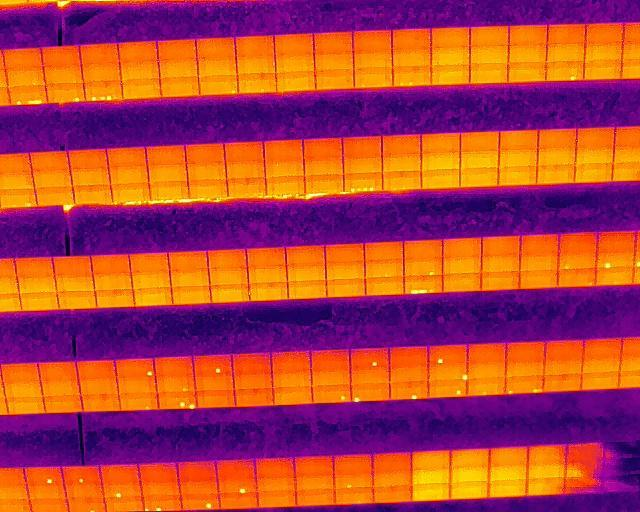Cell: (350, 349, 389, 369), (545, 61, 584, 81), (429, 345, 468, 364), (238, 74, 276, 93), (194, 354, 232, 373), (596, 251, 636, 269), (199, 76, 238, 94), (119, 392, 158, 410), (389, 381, 428, 399), (47, 83, 85, 101), (24, 467, 64, 484), (117, 358, 154, 376), (0, 189, 37, 207), (558, 252, 597, 269), (404, 259, 443, 276), (428, 380, 467, 397), (332, 472, 373, 488), (313, 385, 351, 402), (63, 466, 100, 483), (350, 385, 389, 401), (429, 364, 468, 380), (157, 375, 193, 392), (103, 482, 142, 497), (218, 479, 257, 494), (468, 379, 506, 394), (179, 495, 219, 509), (68, 499, 105, 512)
Cell-Multi: (393, 66, 431, 85), (343, 173, 383, 191), (505, 375, 544, 393), (84, 81, 122, 99), (158, 391, 196, 408), (143, 496, 181, 511)
No-Anomaly: (581, 338, 623, 360), (596, 230, 636, 251), (353, 31, 392, 52), (545, 341, 582, 363), (381, 135, 421, 155), (537, 128, 577, 148), (420, 134, 460, 154), (488, 446, 528, 466), (118, 42, 157, 62), (157, 41, 196, 61), (585, 24, 624, 44), (389, 347, 428, 367), (169, 252, 208, 272), (574, 162, 613, 182), (537, 164, 576, 184), (264, 140, 303, 160), (343, 137, 382, 157), (4, 48, 42, 68), (80, 44, 118, 64), (275, 73, 315, 92), (233, 353, 271, 373), (246, 248, 286, 267), (430, 65, 470, 84), (311, 350, 349, 370), (207, 250, 247, 269), (469, 344, 507, 364), (296, 456, 334, 476), (576, 127, 616, 146), (459, 132, 499, 151), (372, 451, 412, 470), (255, 459, 295, 478), (546, 42, 585, 61), (470, 26, 509, 45), (130, 253, 169, 272), (315, 70, 354, 89), (442, 256, 481, 275), (584, 60, 623, 79), (41, 46, 80, 65), (15, 257, 54, 276), (506, 343, 545, 362), (53, 257, 92, 276), (481, 272, 520, 291), (275, 53, 314, 72), (354, 68, 393, 87), (442, 238, 481, 257), (559, 232, 598, 251), (499, 131, 538, 150), (275, 35, 314, 54), (146, 146, 185, 165), (225, 142, 264, 161), (481, 236, 520, 255), (333, 453, 374, 471), (302, 139, 343, 157), (470, 63, 508, 82), (508, 62, 546, 81), (7, 67, 45, 86), (122, 79, 160, 98), (83, 63, 121, 82), (161, 77, 199, 96), (272, 352, 310, 371), (155, 356, 193, 375), (393, 30, 431, 49), (38, 361, 78, 379), (584, 42, 624, 60), (508, 25, 548, 43), (247, 266, 287, 284), (488, 463, 528, 481), (543, 374, 583, 392), (411, 450, 451, 468), (185, 144, 225, 162), (100, 464, 140, 482), (215, 460, 255, 478), (574, 146, 614, 164), (497, 167, 537, 185), (450, 449, 490, 467), (197, 58, 236, 76), (314, 52, 353, 70), (236, 55, 275, 73), (480, 255, 519, 273), (133, 288, 172, 306), (120, 62, 159, 80), (431, 47, 470, 65), (158, 60, 197, 78), (91, 254, 130, 272), (442, 274, 481, 292), (287, 280, 326, 298), (286, 246, 325, 264), (431, 28, 470, 46), (273, 387, 312, 405), (526, 478, 565, 496), (314, 32, 353, 50), (382, 171, 421, 189), (528, 444, 567, 462), (235, 36, 274, 54), (107, 148, 146, 166), (31, 152, 70, 170), (364, 242, 403, 260), (459, 168, 498, 186), (404, 241, 443, 259), (177, 461, 216, 479), (5, 397, 46, 414), (526, 461, 567, 478), (45, 65, 83, 83), (78, 360, 116, 378), (520, 270, 558, 288), (520, 253, 558, 271), (548, 24, 586, 42), (110, 166, 148, 184), (139, 463, 177, 481), (1, 363, 39, 381), (521, 234, 559, 252), (197, 39, 235, 57), (557, 269, 597, 286), (17, 275, 57, 292), (171, 286, 211, 303), (487, 479, 527, 496), (248, 283, 288, 300), (303, 158, 343, 175), (537, 148, 577, 165), (342, 156, 382, 173), (225, 162, 265, 179), (234, 389, 274, 406), (498, 150, 538, 167), (188, 180, 228, 197), (226, 178, 266, 195), (420, 153, 460, 170), (459, 151, 499, 168), (69, 149, 106, 167), (326, 262, 365, 279), (354, 51, 393, 68), (209, 268, 248, 285), (365, 260, 404, 277), (95, 289, 134, 306), (508, 44, 547, 61), (19, 292, 58, 309), (210, 284, 249, 301), (325, 244, 364, 261), (326, 280, 365, 297), (392, 48, 431, 65), (382, 154, 421, 171), (71, 169, 110, 186), (148, 165, 187, 182), (265, 159, 304, 176), (266, 176, 305, 193), (43, 395, 82, 412), (35, 187, 74, 204), (73, 186, 112, 203), (233, 372, 272, 389), (40, 379, 81, 395), (451, 481, 489, 498), (366, 278, 404, 295), (150, 182, 188, 199), (197, 390, 235, 407), (421, 170, 459, 187), (196, 373, 234, 390), (112, 184, 150, 201), (56, 292, 96, 308), (469, 45, 509, 61), (179, 480, 219, 496), (595, 269, 635, 285), (505, 360, 545, 376), (186, 163, 226, 179), (272, 372, 312, 388), (33, 170, 73, 186), (449, 466, 489, 482), (334, 488, 373, 504), (411, 484, 450, 500), (171, 270, 210, 286), (467, 362, 506, 378), (287, 265, 326, 281), (373, 486, 412, 502), (304, 175, 343, 191), (390, 366, 429, 382), (81, 395, 120, 411), (581, 373, 620, 389), (2, 382, 43, 397), (94, 273, 132, 289), (296, 490, 334, 506), (118, 376, 156, 392), (312, 370, 350, 386), (217, 493, 257, 508), (55, 276, 95, 291), (372, 470, 412, 485), (81, 378, 118, 394), (542, 362, 584, 376), (65, 484, 104, 499), (131, 272, 170, 287), (256, 478, 295, 493), (411, 468, 450, 483), (139, 481, 180, 495), (351, 369, 389, 384), (256, 493, 296, 507), (104, 497, 144, 511), (582, 359, 621, 373), (295, 476, 333, 490), (0, 172, 35, 187), (28, 485, 65, 499)
Shadowing: (566, 442, 604, 460), (602, 440, 640, 458), (564, 476, 602, 494), (602, 475, 640, 493), (602, 459, 640, 475), (565, 460, 602, 476)
Unclassified: (8, 85, 47, 104), (404, 275, 443, 292)
